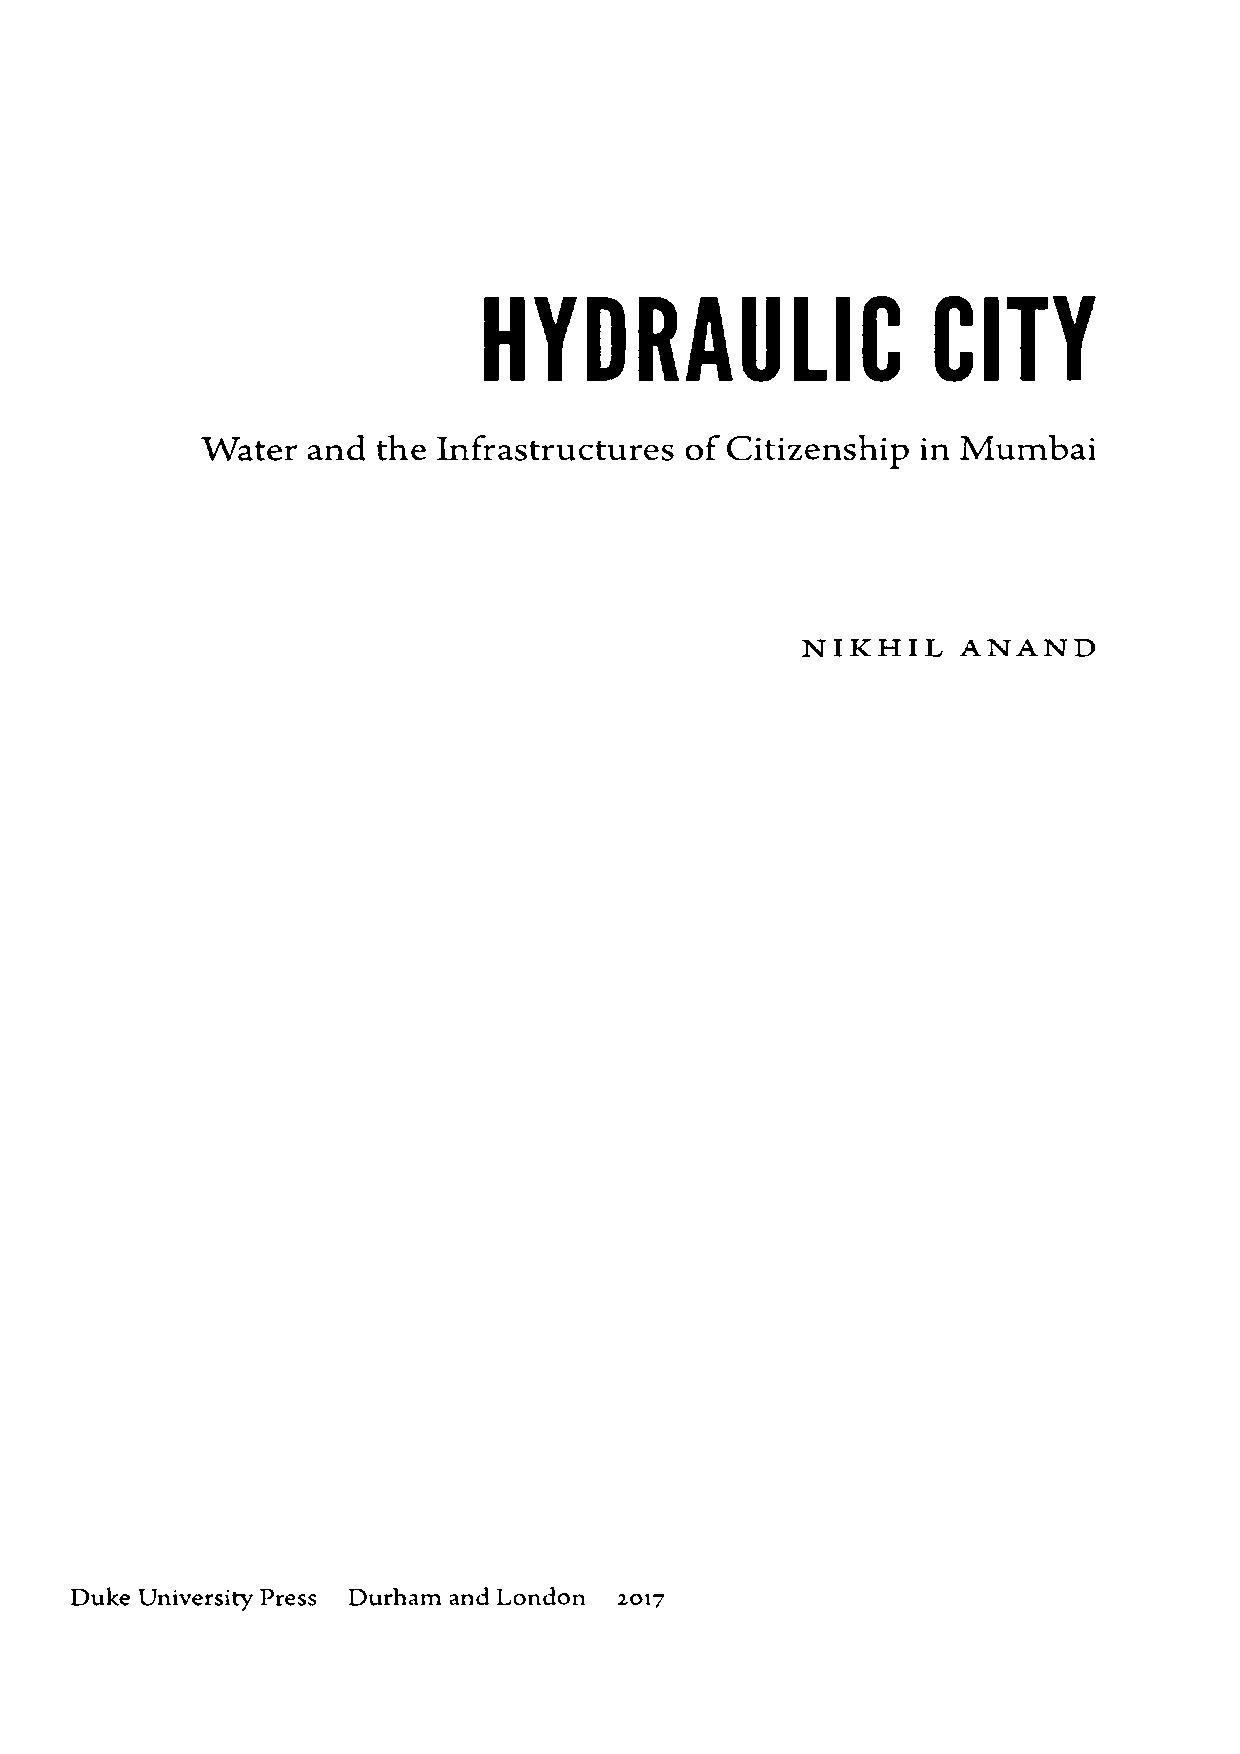author: (797, 635, 1096, 662)
title: (197, 293, 1096, 468)
